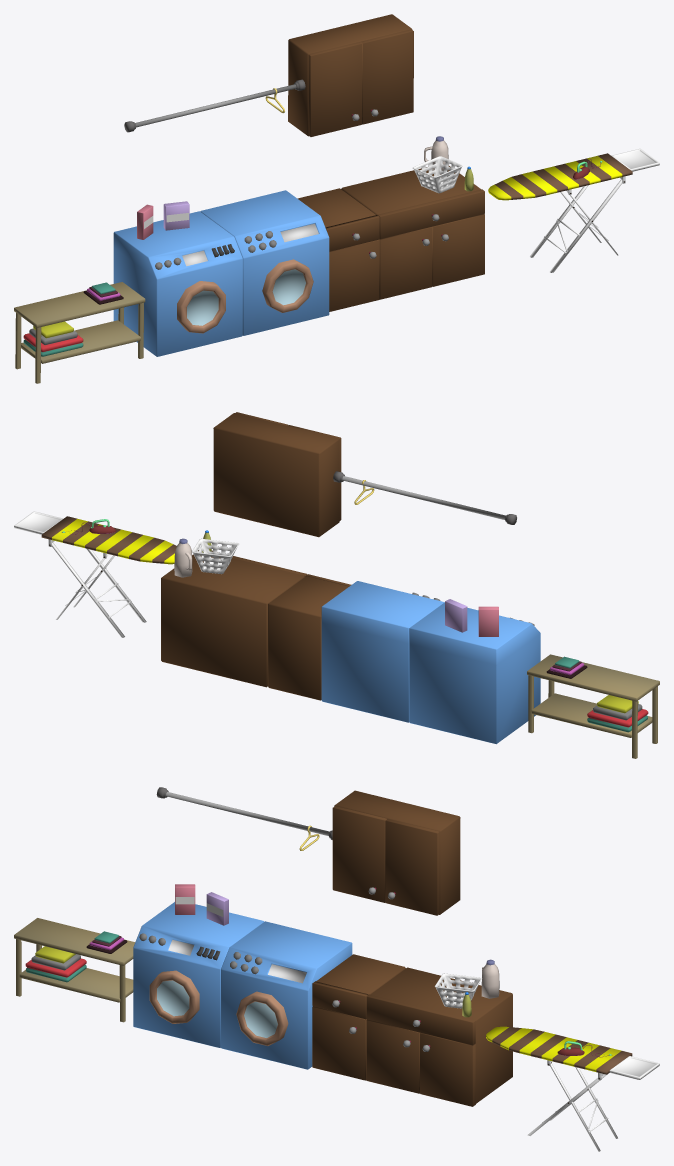
File: laundry.fbx
3 views of the same model, one above another, from view 1: azimuth 30°, elevation 25°; view 2: azimuth 150°, elevation 25°; view 3: azimuth 330°, elevation 25° (orthographic).
Parts seen in each view (by area): view 1: Washing_machine_1, Cabinet_4, Cabinet_3, Drying_machine_1, Cabinet_2, Towel_stand, Ironing_board, Towels_02, Laundry_basket_3, Shelf_1.001, Powder_1, Towels_01; view 2: Washing_machine_1, Cabinet_4, Cabinet_3, Drying_machine_1, Cabinet_2, Towel_stand, Ironing_board, Towels_02, Laundry_basket_3, Shelf_1.001, Powder_2, Powder_1 (+2 smaller); view 3: Cabinet_3, Cabinet_4, Drying_machine_1, Washing_machine_1, Cabinet_2, Ironing_board, Towel_stand, Towels_02, Laundry_basket_3, Shelf_1.001, Powder_2, Powder_1 (+2 smaller).
Boxes of the visible parts, x1,y1,x2,y2 form: Washing_machine_1: [113, 211, 242, 356]; Cabinet_4: [288, 14, 413, 136]; Cabinet_3: [341, 166, 484, 299]; Drying_machine_1: [200, 190, 329, 335]; Cabinet_2: [297, 188, 379, 311]; Towel_stand: [14, 282, 145, 383]; Ironing_board: [488, 148, 659, 272]; Towels_02: [23, 321, 83, 356]; Laundry_basket_3: [412, 156, 462, 193]; Shelf_1.001: [124, 79, 305, 132]; Powder_1: [163, 201, 189, 230]; Towels_01: [83, 282, 123, 304]; Washing_machine_1: [409, 602, 540, 744]; Cabinet_4: [213, 412, 341, 537]; Cabinet_3: [161, 550, 307, 687]; Drying_machine_1: [321, 581, 444, 722]; Cabinet_2: [268, 574, 351, 700]; Towel_stand: [527, 654, 659, 758]; Ironing_board: [14, 511, 176, 637]; Towels_02: [587, 695, 648, 732]; Laundry_basket_3: [192, 538, 239, 574]; Shelf_1.001: [333, 471, 516, 524]; Powder_2: [478, 606, 498, 636]; Powder_1: [445, 599, 467, 632]; Cabinet_3: [366, 967, 512, 1106]; Cabinet_4: [332, 790, 460, 915]; Drying_machine_1: [221, 921, 352, 1069]; Washing_machine_1: [133, 902, 264, 1047]; Cabinet_2: [312, 954, 405, 1080]; Ironing_board: [486, 1026, 659, 1151]; Towel_stand: [14, 918, 135, 1022]; Towels_02: [25, 946, 86, 982]; Laundry_basket_3: [434, 973, 482, 1008]; Shelf_1.001: [156, 787, 332, 839]; Powder_2: [175, 884, 195, 914]; Powder_1: [206, 892, 228, 925].
Bounding box in the file's own units: 729 × 285 × 98.6.
